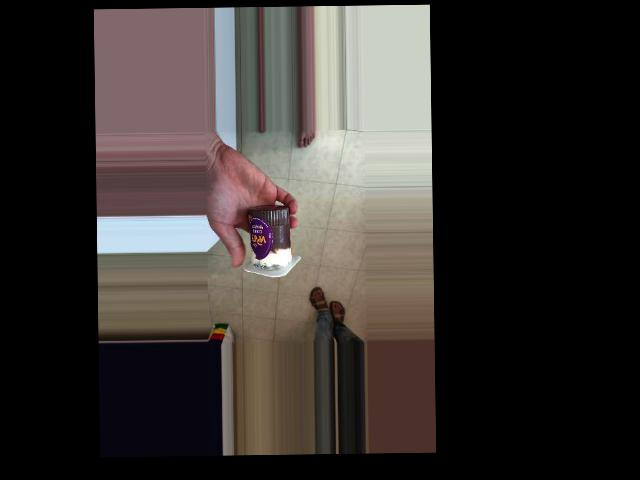milky: (245, 205, 303, 283)
